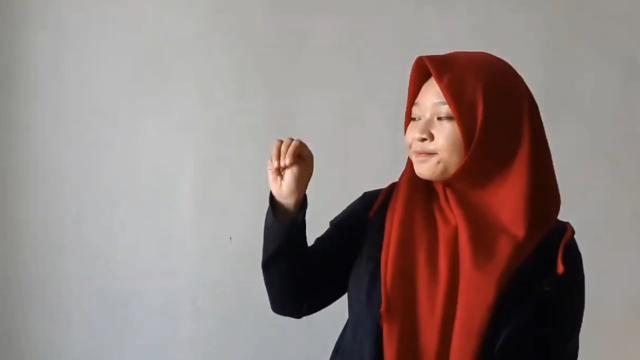N: (266, 137, 314, 196)
